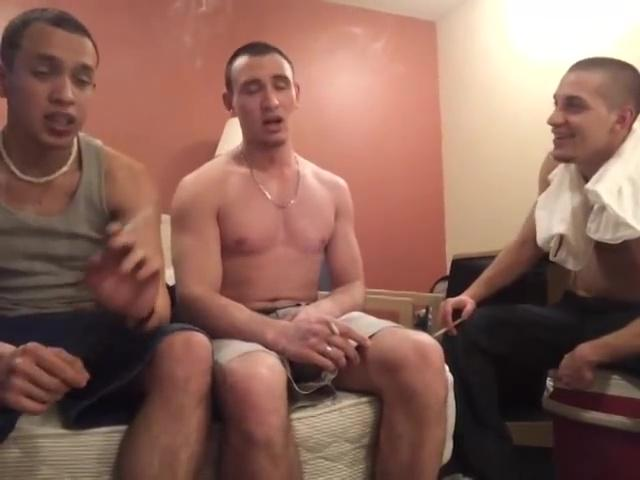cigarette: (431, 316, 469, 339), (324, 317, 344, 337)
